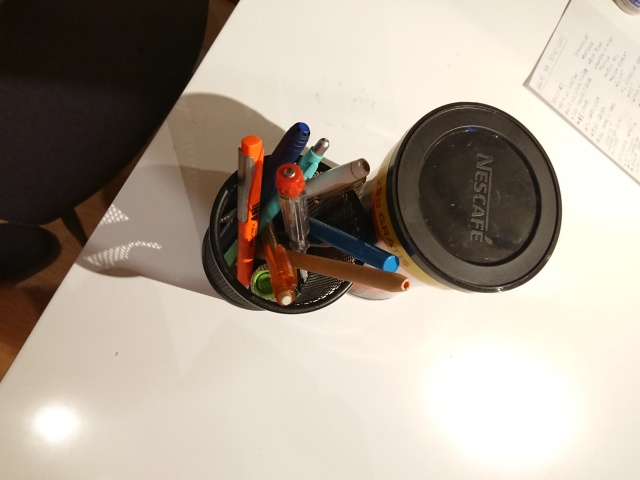Nescafe Classic 225g: (326, 99, 565, 304)
